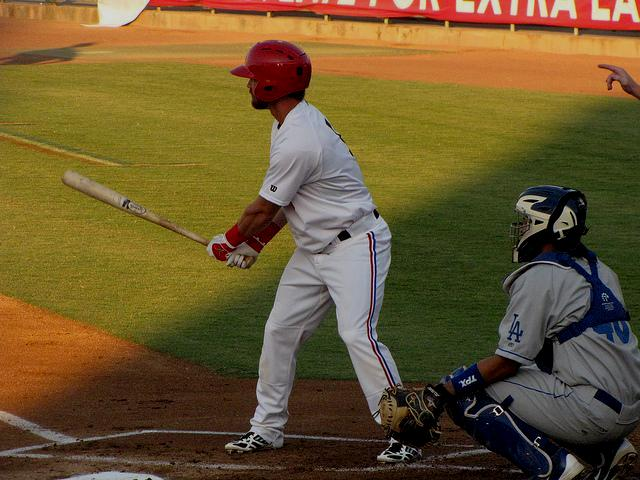bat: (60, 169, 210, 247)
